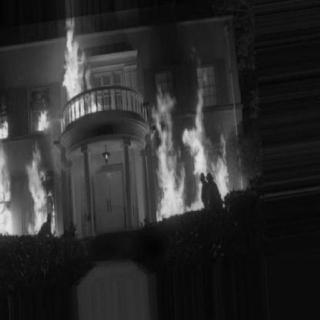Fire: (27, 110, 65, 236)
